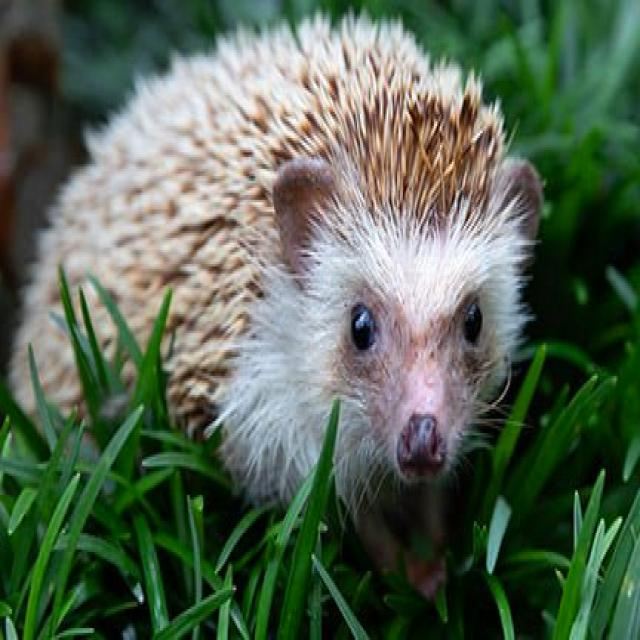hedgehog: (9, 14, 541, 592)
